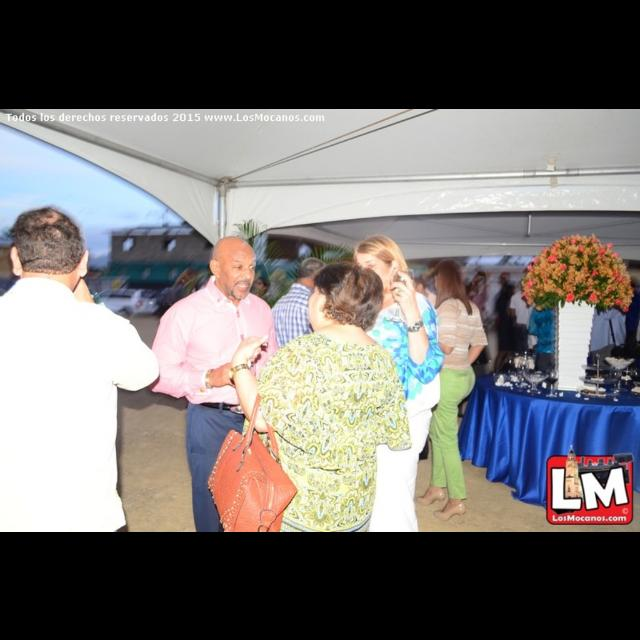Flower: (524, 236, 632, 308)
